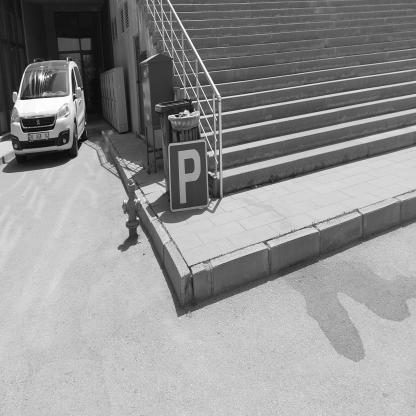Parking-Sign: (169, 141, 210, 213)
